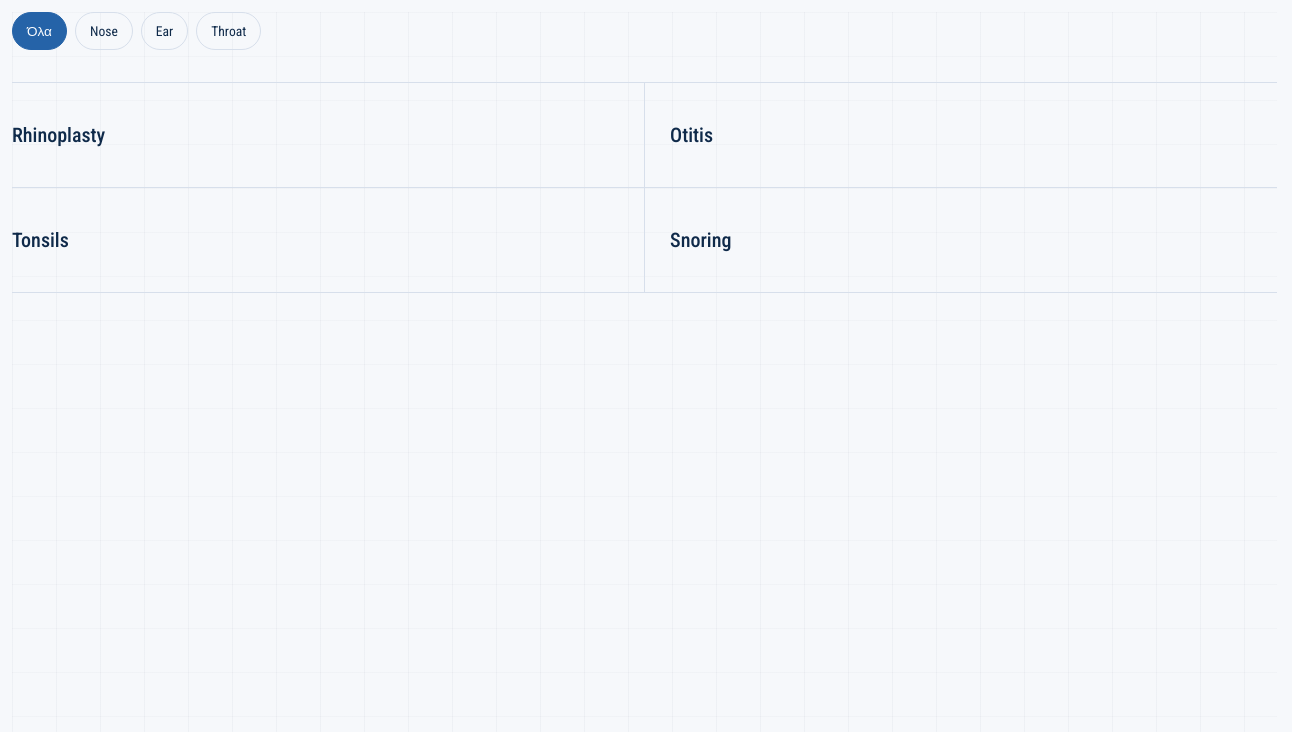
Scenario: SectionIndexGrid filtering › shows items matching multiple tags (union) when item has any selected tag
Click the button "Nose" at (104, 31), box x1=75 y1=12 x2=133 y2=50
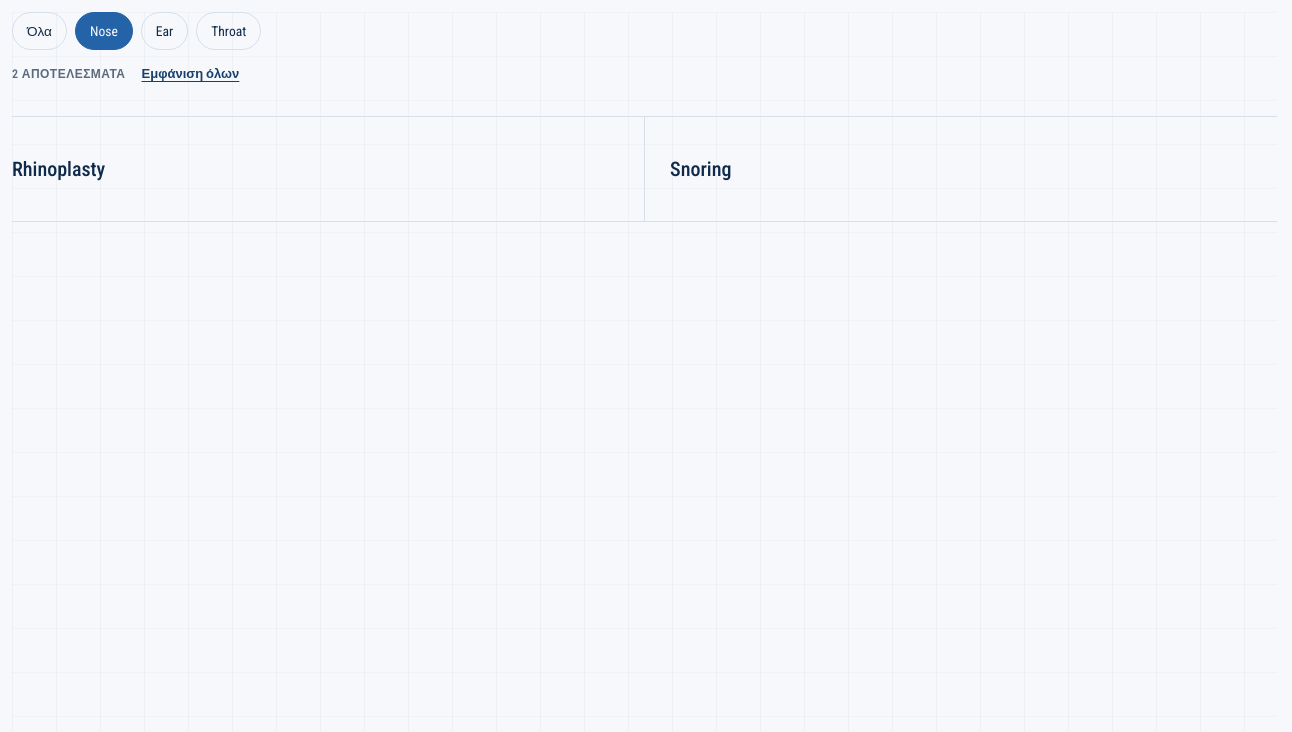
Expected: the number of links is 2, x1=12 y1=157 x2=105 y2=181; x1=670 y1=157 x2=731 y2=181
